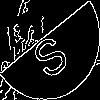S: (25, 25, 72, 82)
